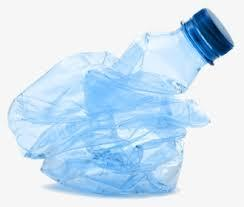plastic: (10, 9, 240, 194)
